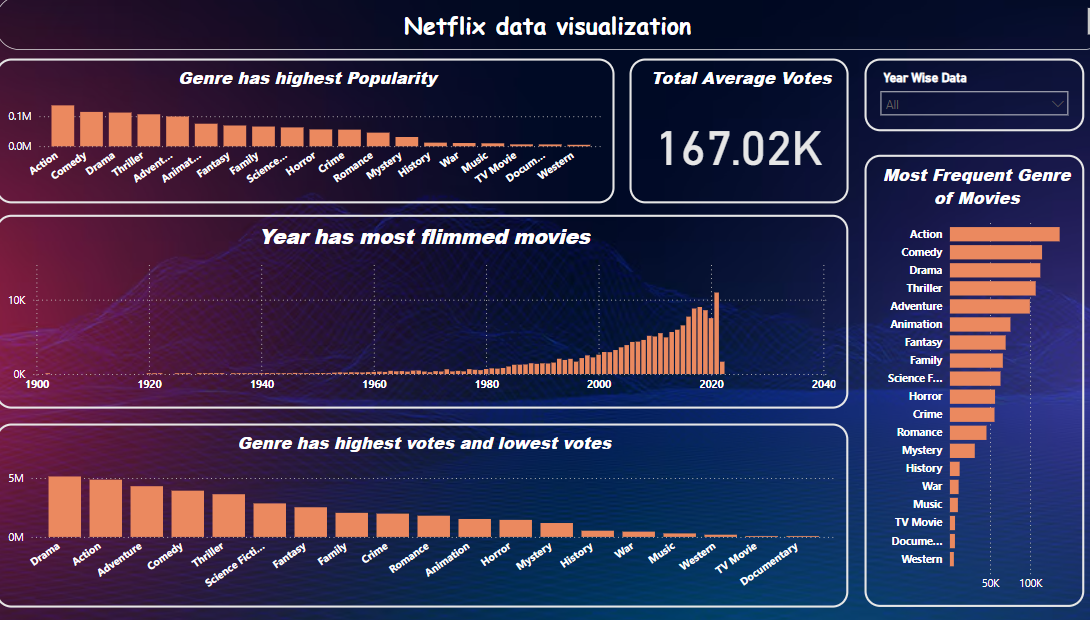

The dashboard page shown, as its layout file describes it:
{"tool":"powerbi","page":{"name":"Page 1","canvas":[1280,720],"ordinal":0},"visuals":[{"type":"textbox","box":[10,0,1270,61.4],"z":0},{"type":"clusteredBarChart","title":"Most Frequent Genre of Movies","fields":{"Category":["cleaned_data.Genre"],"Y":["Sum(cleaned_data.Popularity)"]},"box":[1002.9,181.4,251.4,517.1],"z":1000},{"type":"columnChart","title":"Genre has highest votes and lowest votes","fields":{"Y":["Sum(cleaned_data.Vote_Count)"],"Category":["cleaned_data.Genre"]},"box":[10,488.6,974.3,210],"z":2000},{"type":"columnChart","title":"Genre has highest Popularity","fields":{"Y":["Sum(cleaned_data.Popularity)"],"Category":["cleaned_data.Genre"]},"box":[10,71.4,707.1,165.7],"z":3000},{"type":"clusteredColumnChart","title":"Year has most flimmed movies","fields":{"Category":["cleaned_data.Release_Date"],"Y":["Sum(cleaned_data.Vote_Average)"]},"box":[10,250,974.3,221.4],"z":4000},{"type":"card","title":"Total Average Votes","fields":{"Values":["Sum(cleaned_data.Vote_Average)"]},"box":[734.3,71.4,250,165.7],"z":5000},{"type":"slicer","fields":{"Values":["cleaned_data.Release_Date"]},"box":[1002.9,71.4,251.4,82.9],"z":6000}]}

Visuals, with their boxes in screenshot pixels (x1, y1, x2, y2), scaled from the page's 1280x720 canvas onto the 1090x620 screenshot:
textbox: {"left": 9, "top": 0, "right": 1089, "bottom": 53}
"Most Frequent Genre of Movies" clusteredBarChart: {"left": 854, "top": 156, "right": 1068, "bottom": 601}
"Genre has highest votes and lowest votes" columnChart: {"left": 9, "top": 421, "right": 838, "bottom": 602}
"Genre has highest Popularity" columnChart: {"left": 9, "top": 61, "right": 611, "bottom": 204}
"Year has most flimmed movies" clusteredColumnChart: {"left": 9, "top": 215, "right": 838, "bottom": 406}
"Total Average Votes" card: {"left": 625, "top": 61, "right": 838, "bottom": 204}
slicer - cleaned_data.Release_Date: {"left": 854, "top": 61, "right": 1068, "bottom": 133}
